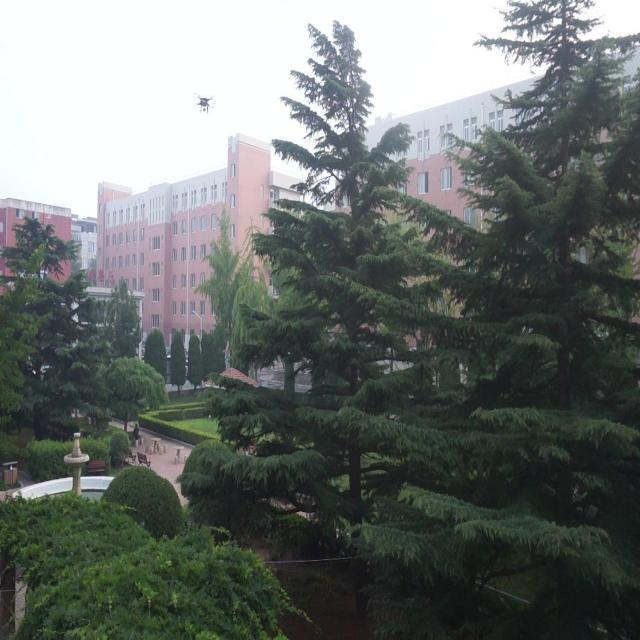drone: (191, 89, 216, 117)
